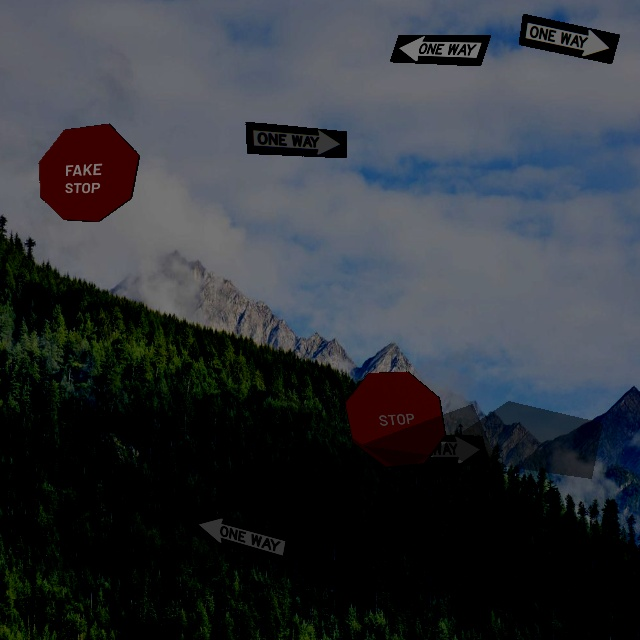FAKE_STOP: (38, 123, 140, 222)
ONE_WAY_ left: (192, 509, 294, 565), (389, 34, 491, 66)
ONE_WAY_ right: (518, 13, 620, 64), (245, 121, 347, 158), (388, 433, 490, 466)
STOP: (344, 371, 446, 468)
